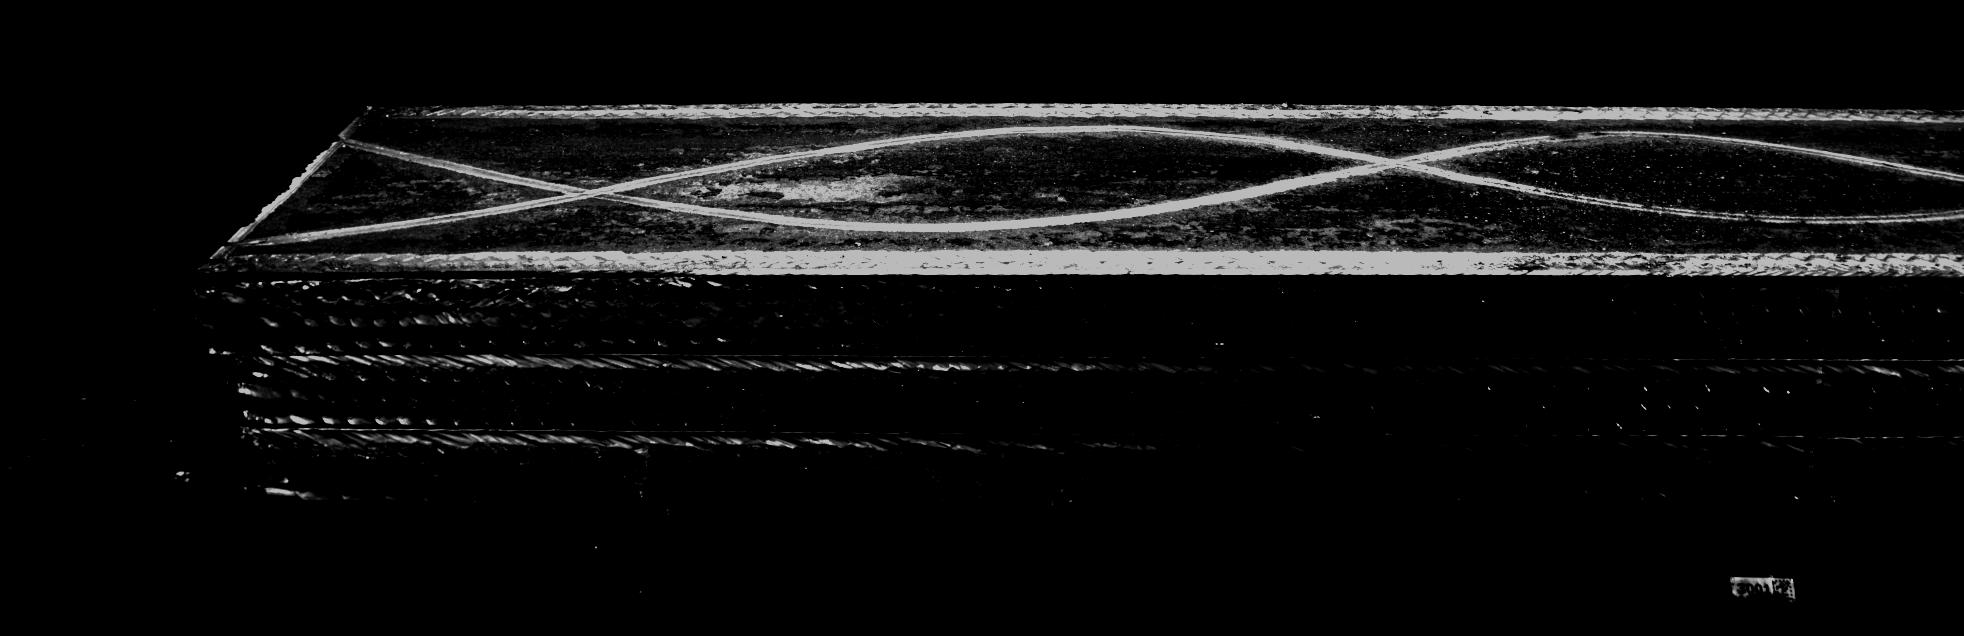data matrix: (1770, 576, 1797, 607)
